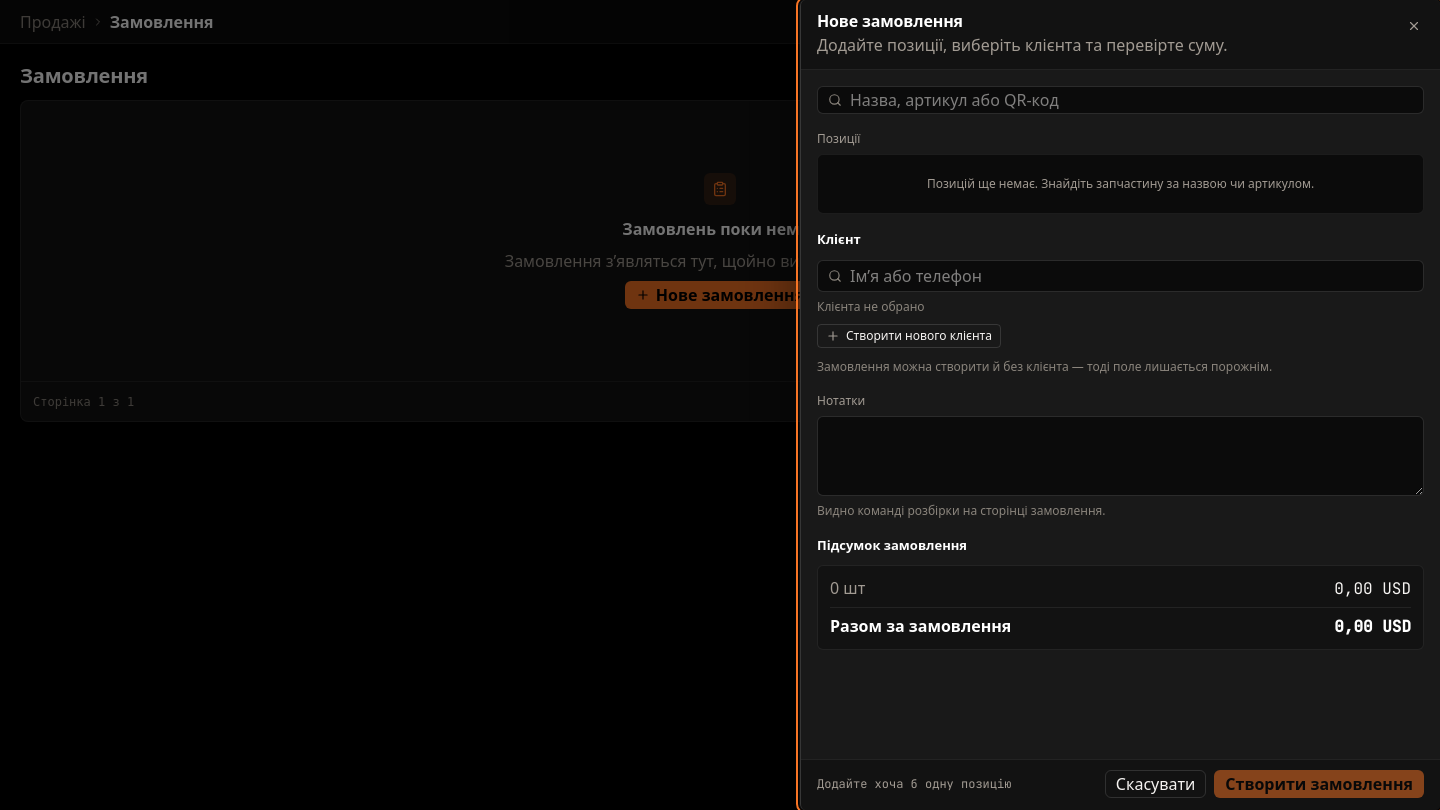
Scenario: clears the inline customer draft when creation is cancelled
Expected: the element "Новий клієнт" is not shown
Click the button "Створити нового клієнта": (909, 336) [817,324,1001,348]
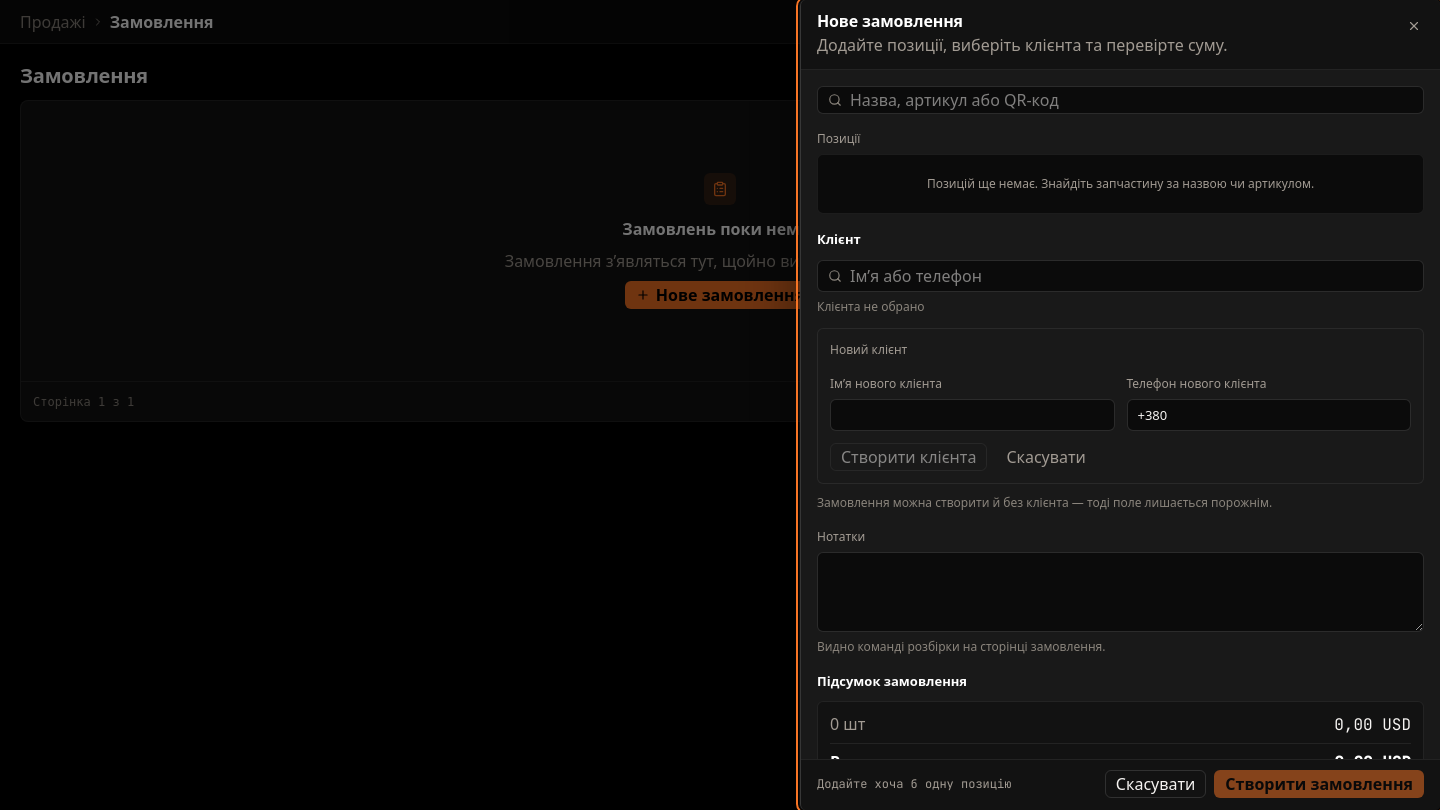
In the field labelled "Ім’я нового клієнта": (972, 415) [830,399,1114,431], type "Чернетка"
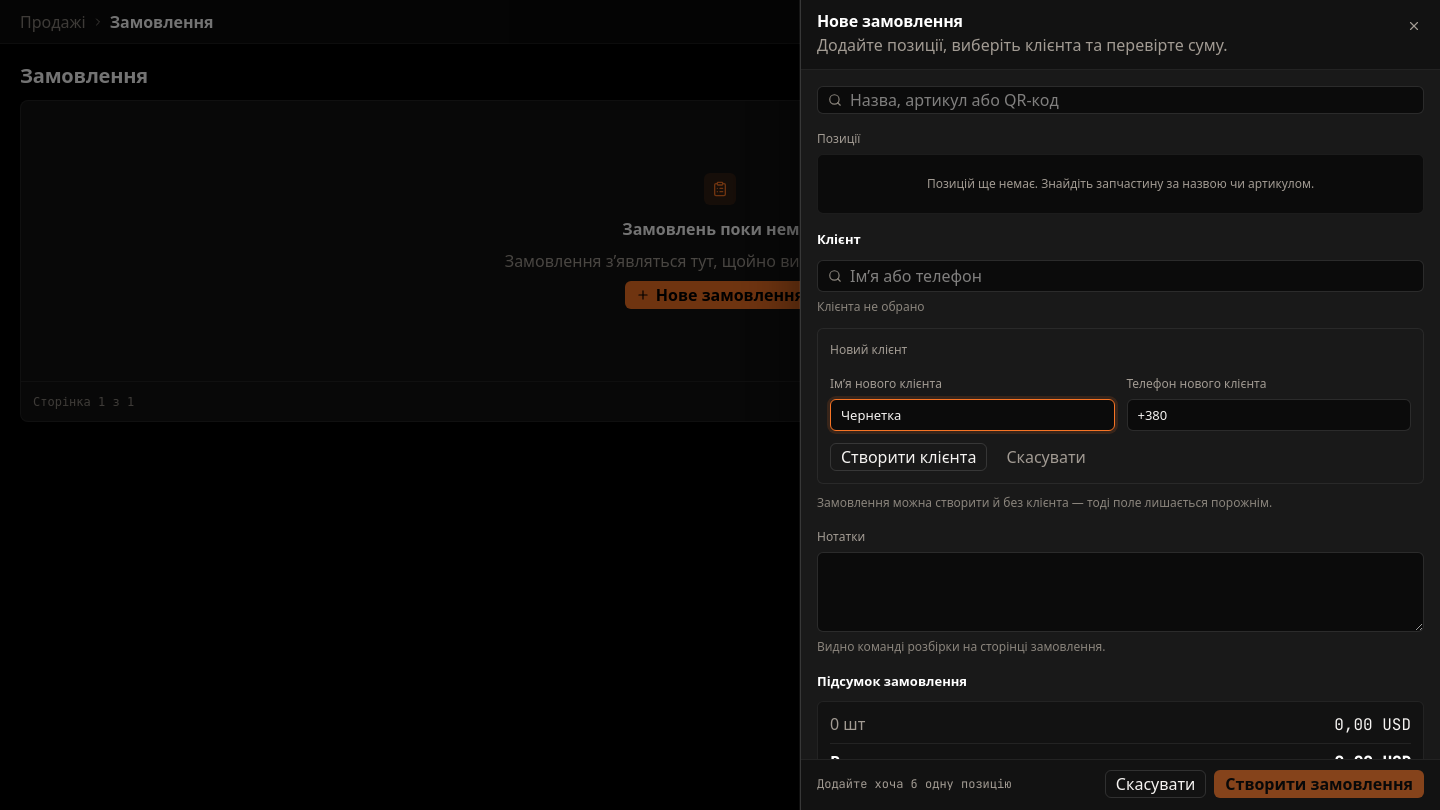
In the field labelled "Телефон нового клієнта": (1269, 415) [1126,399,1411,431], type "501112233"
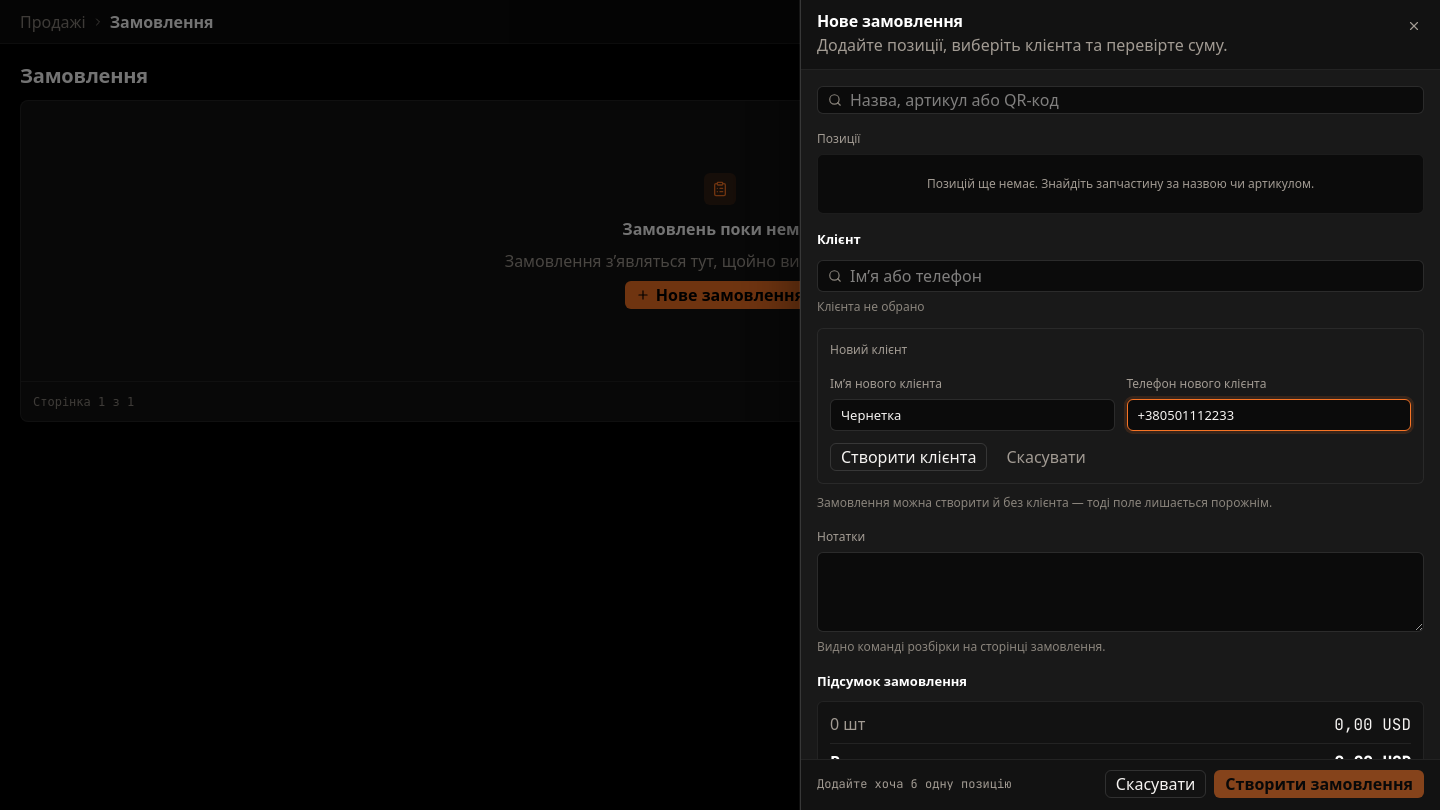
Click the button "Скасувати" below "Ім’я нового клієнта": (1046, 457) [995,443,1097,471]
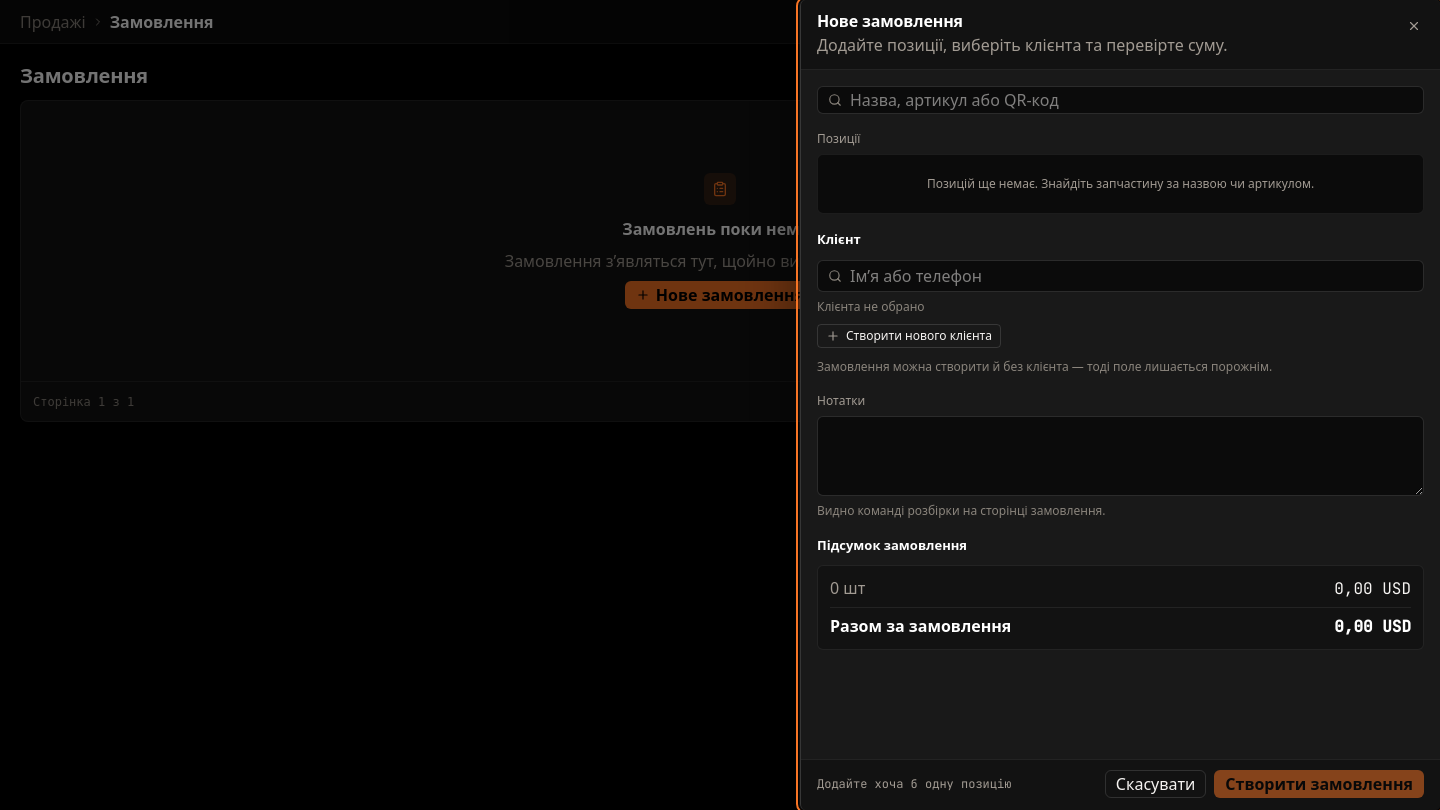
Expected: the text "Новий клієнт" is gone
Click the button "Створити нового клієнта": (909, 336) [817,324,1001,348]
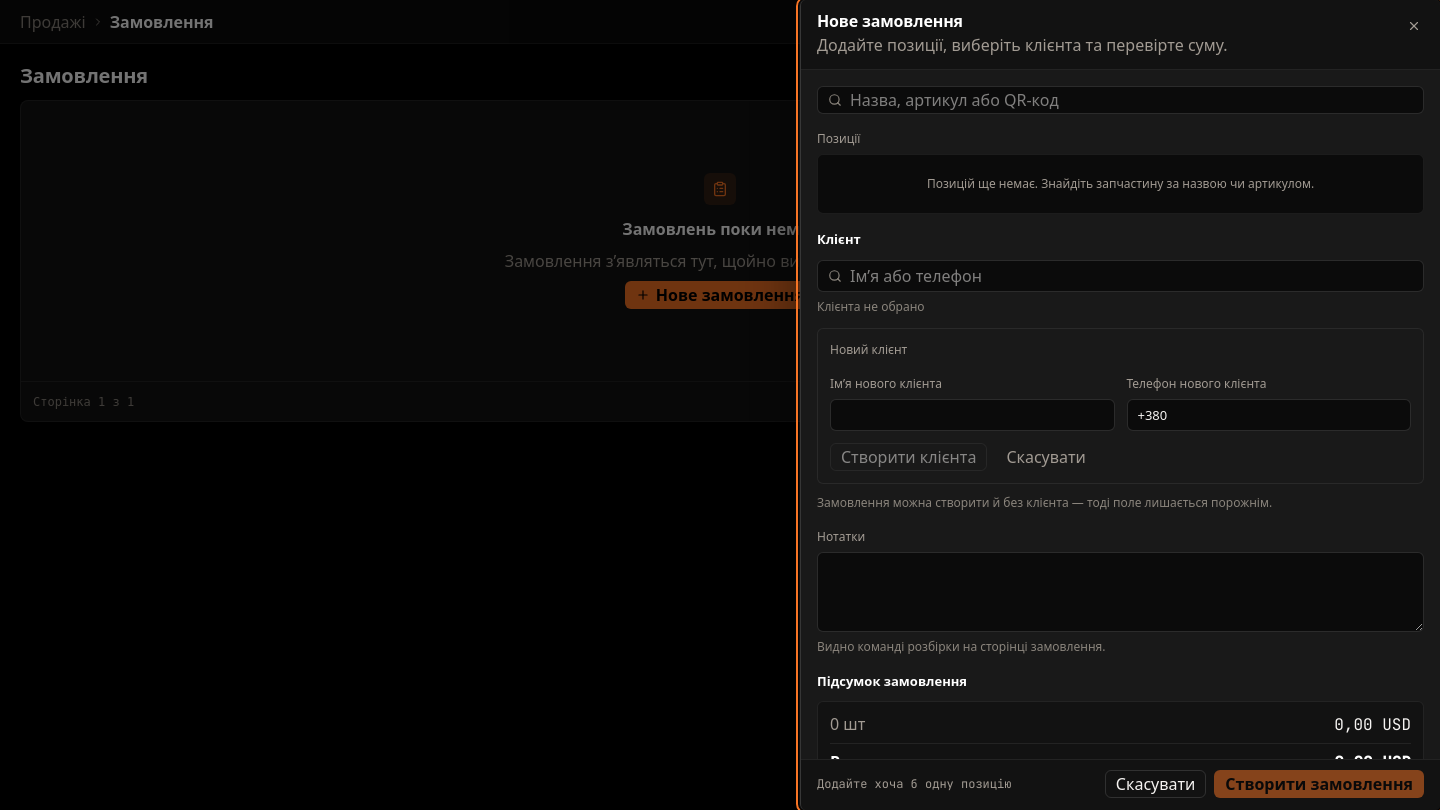
Expected: the field labelled "Ім’я нового клієнта" is empty, [830,399,1114,431]
Expected: the field labelled "Телефон нового клієнта" holds "+380", [1126,399,1411,431]
